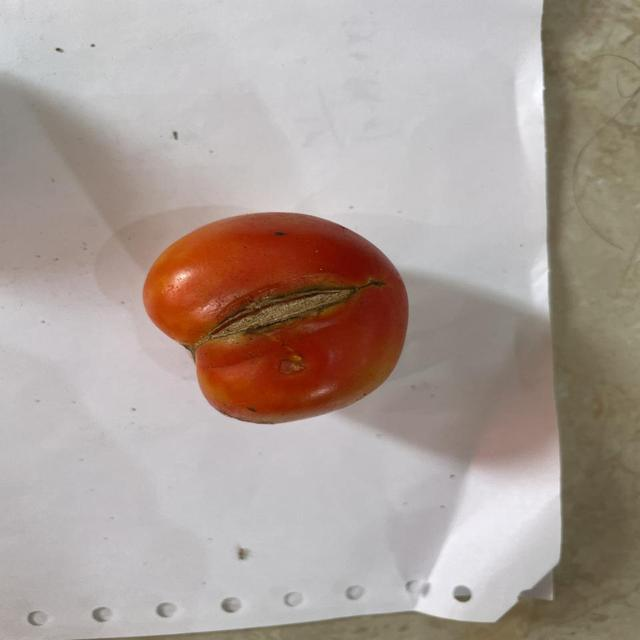Cracking Fruit: (143, 91, 384, 276)
